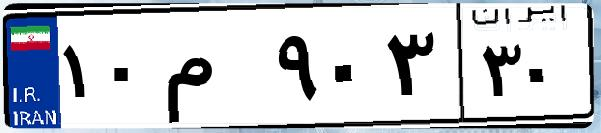0: (330, 28, 385, 110), (525, 38, 570, 115), (110, 28, 158, 98)
1: (57, 26, 110, 100)
3: (385, 28, 445, 110), (475, 38, 525, 113)
9: (270, 28, 330, 110)
م: (158, 20, 270, 120)
